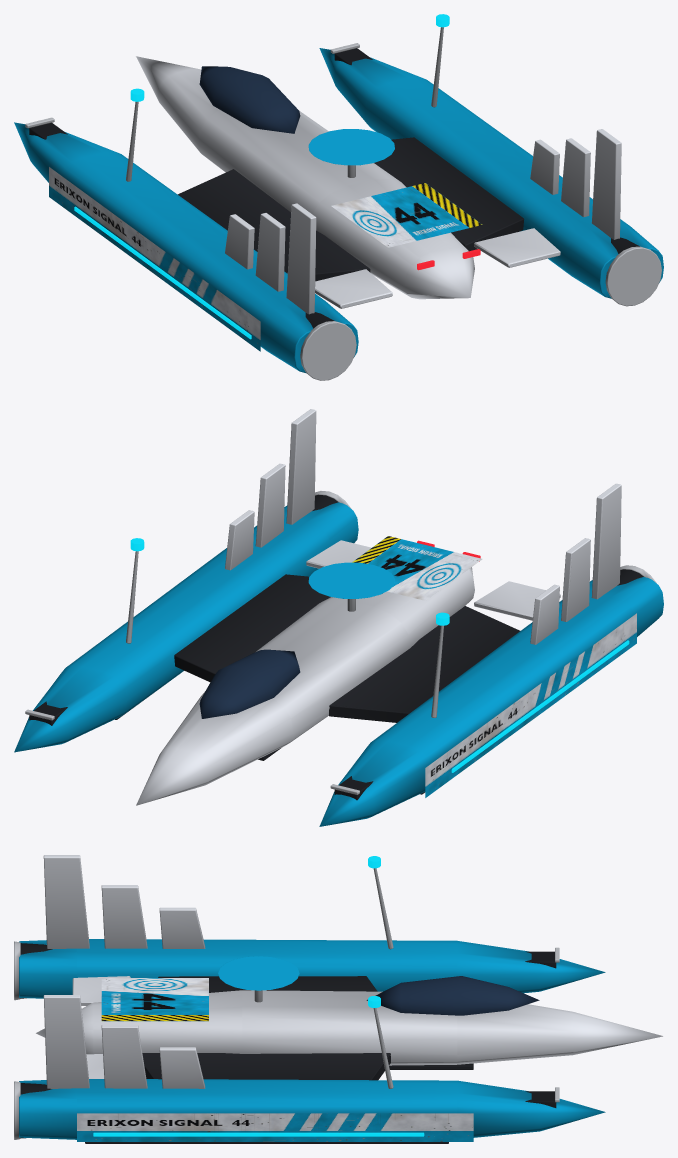
File: craft_5.glb
3 renders of one model, top to bottom at view 1: azimuth 30°, elevation 25°; view 2: azimuth 150°, elevation 25°; view 3: azimuth 270°, elevation 25°, orthographic. The views are drawn at different scales.
Parts seen in each view (by area): view 1: craft_5_body, craft_5_hull_L, craft_5_livery, craft_5_canopy, flap_R_plate.005, flap_L_plate.005; view 2: craft_5_body, craft_5_hull_L, craft_5_canopy, craft_5_livery, flap_L_plate.005, flap_R_plate.005; view 3: craft_5_body, craft_5_hull_R, craft_5_livery, craft_5_canopy, flap_L_plate.005.
Part boxes in pixels (left/top/right/bottom): craft_5_body: left=14, top=14, right=663, bottom=380; craft_5_hull_L: left=49, top=167, right=260, bottom=351; craft_5_livery: left=331, top=183, right=482, bottom=247; craft_5_canopy: left=199, top=66, right=300, bottom=133; flap_R_plate.005: left=474, top=228, right=560, bottom=267; flap_L_plate.005: left=315, top=269, right=392, bottom=308; craft_5_body: left=14, top=409, right=663, bottom=826; craft_5_hull_L: left=425, top=613, right=636, bottom=797; craft_5_canopy: left=199, top=649, right=300, bottom=718; craft_5_livery: left=352, top=536, right=482, bottom=600; flap_L_plate.005: left=474, top=581, right=560, bottom=620; flap_R_plate.005: left=306, top=540, right=371, bottom=568; craft_5_body: left=14, top=855, right=662, bottom=1143; craft_5_hull_R: left=77, top=1113, right=473, bottom=1141; craft_5_livery: left=101, top=978, right=208, bottom=1021; craft_5_canopy: left=366, top=976, right=539, bottom=1015; flap_L_plate.005: left=72, top=976, right=130, bottom=1006.
Size of the model in its own units: 4.97 by 1.89 by 7.86.
Materials: 11 (2 with a texture image).
